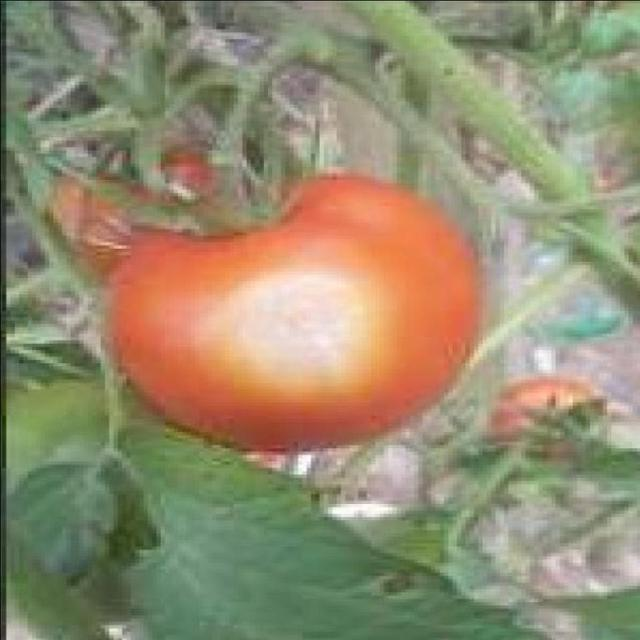Sunscald Fruit: (145, 164, 269, 267)
